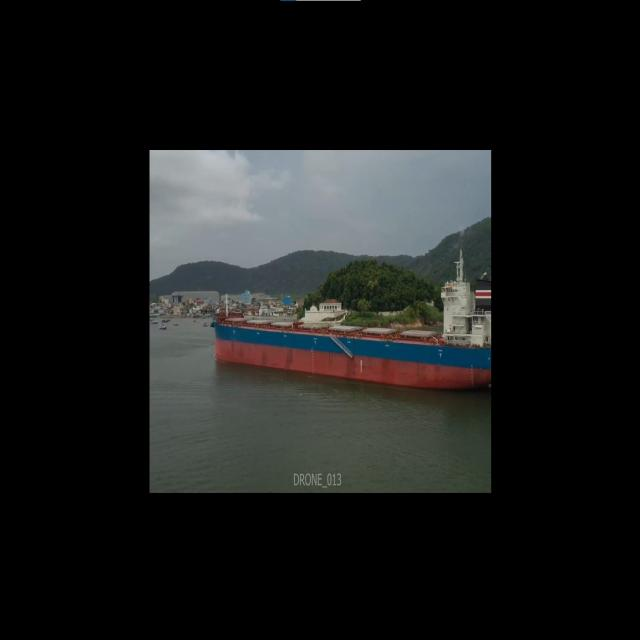ship: (211, 252, 492, 388)
